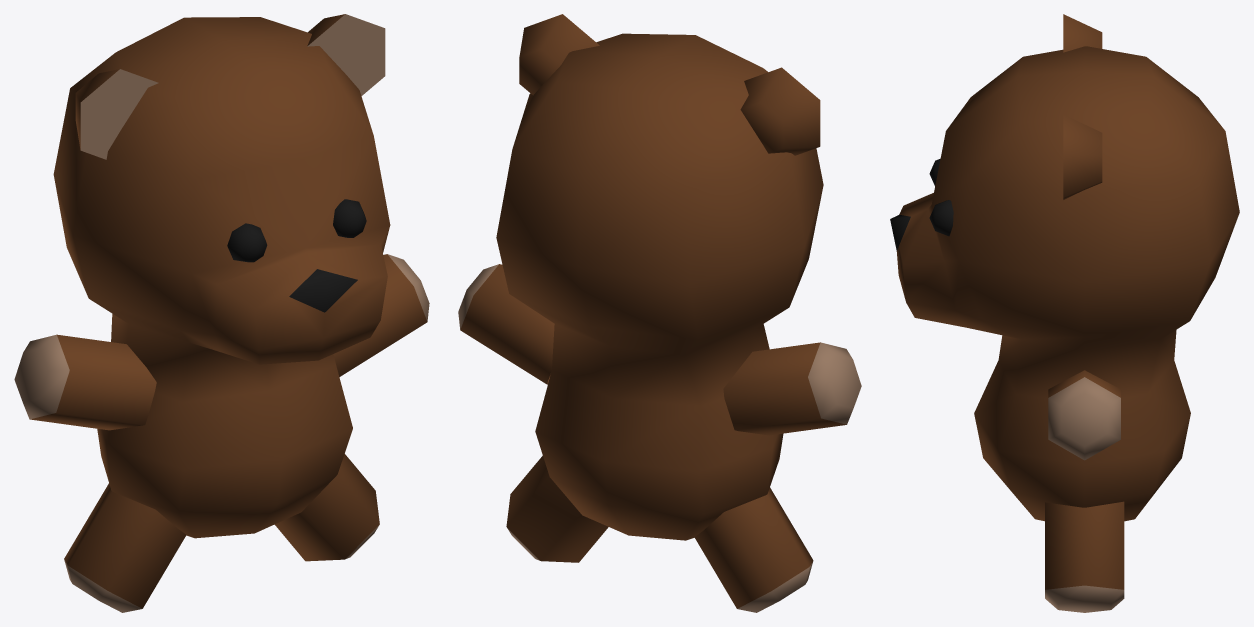
The model's file is Osito Bubu.FBX.
The picture shows the model from 3 angles, left to right: view 1: azimuth 30°, elevation 25°; view 2: azimuth 150°, elevation 25°; view 3: azimuth 270°, elevation 25°; orthographic projection. The views are drawn at different scales.
Visible parts, largest first — view 1: Osito Bubu; view 2: Osito Bubu; view 3: Osito Bubu.
Boxes of the visible parts, left/top/right/bottom form: Osito Bubu: left=14, top=14, right=429, bottom=612; Osito Bubu: left=458, top=14, right=861, bottom=612; Osito Bubu: left=890, top=14, right=1239, bottom=612.
Bounding box in the file's own units: 64.12 × 84.71 × 53.4.
